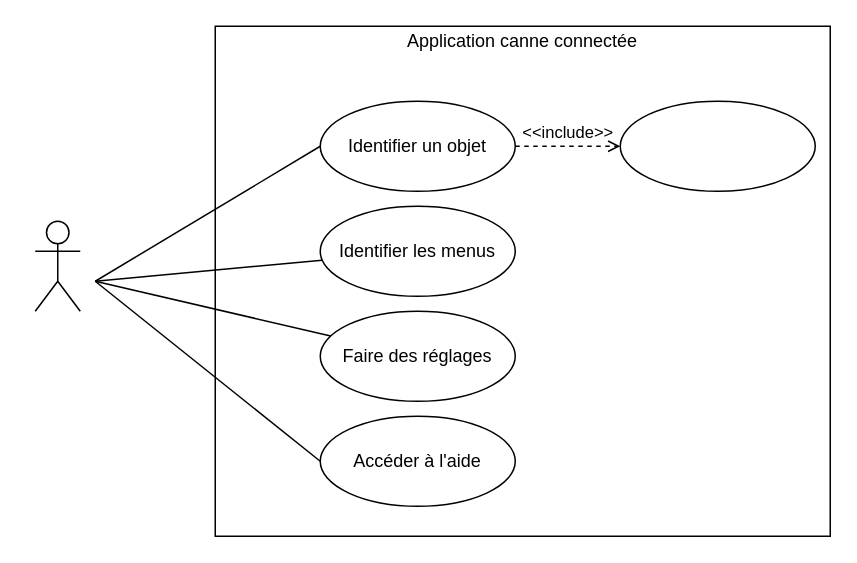
Some shapes in this 857 by 563 pixel diagram are drawn without their labels. Here are the shapes that lost their labels. From the top down, the centre of each, then its label:
At (717,145): "Autorisation camera".
At (57,265): "Aveugle".
